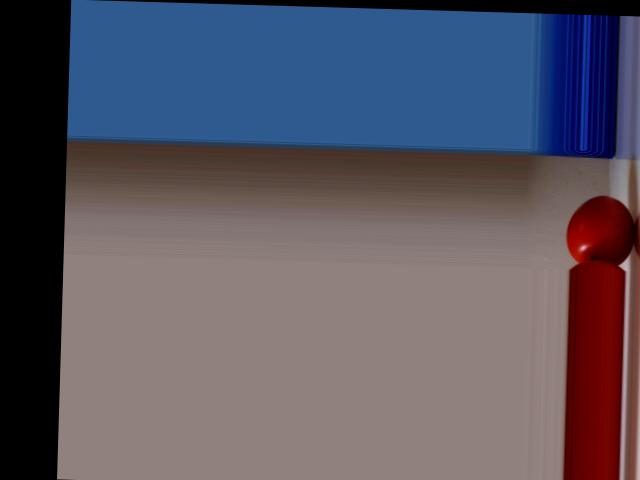tomato: (566, 194, 636, 264)
